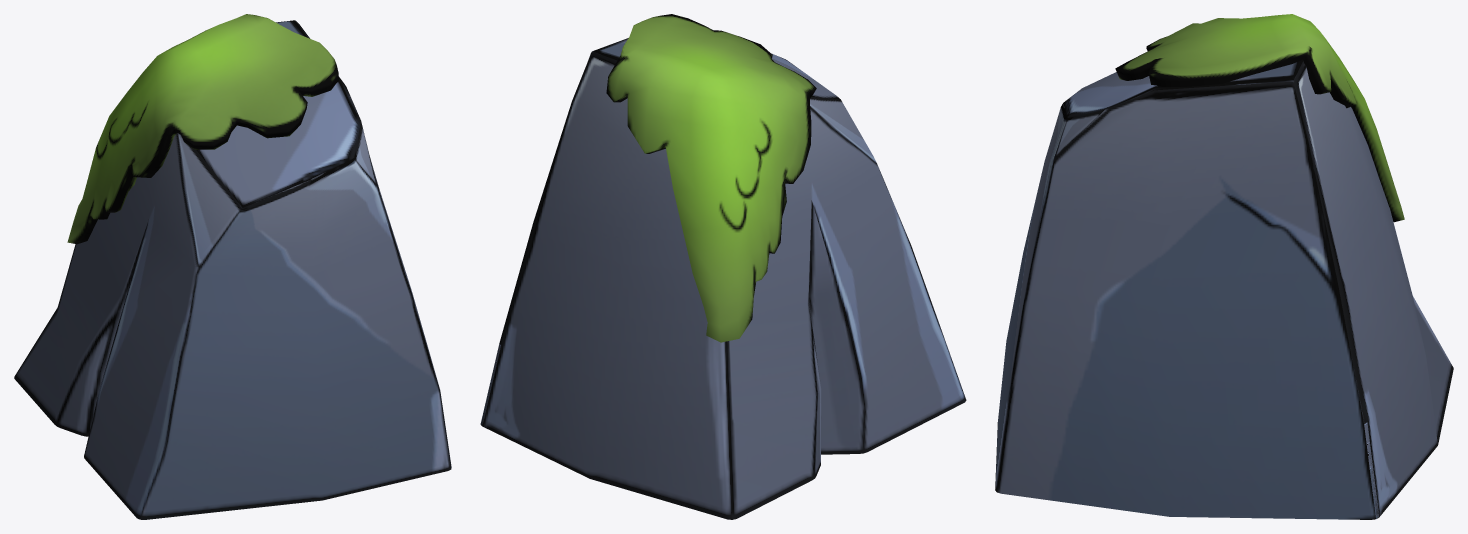
Rendered from Moonset_FBX_rock_moss_03.fbx.
3 renders of one model, left to right at view 1: azimuth 30°, elevation 25°; view 2: azimuth 150°, elevation 25°; view 3: azimuth 270°, elevation 25°, orthographic. The views are drawn at different scales.
Visible parts, largest first — view 1: rocks3_moss; view 2: rocks3_moss; view 3: rocks3_moss.
Part boxes in pixels (box(x1,y1,x2,y2)): rocks3_moss: box(14, 14, 451, 519); rocks3_moss: box(480, 14, 966, 519); rocks3_moss: box(995, 14, 1453, 519).
Size of the model in its own units: 3.63 by 3.8 by 3.84.
